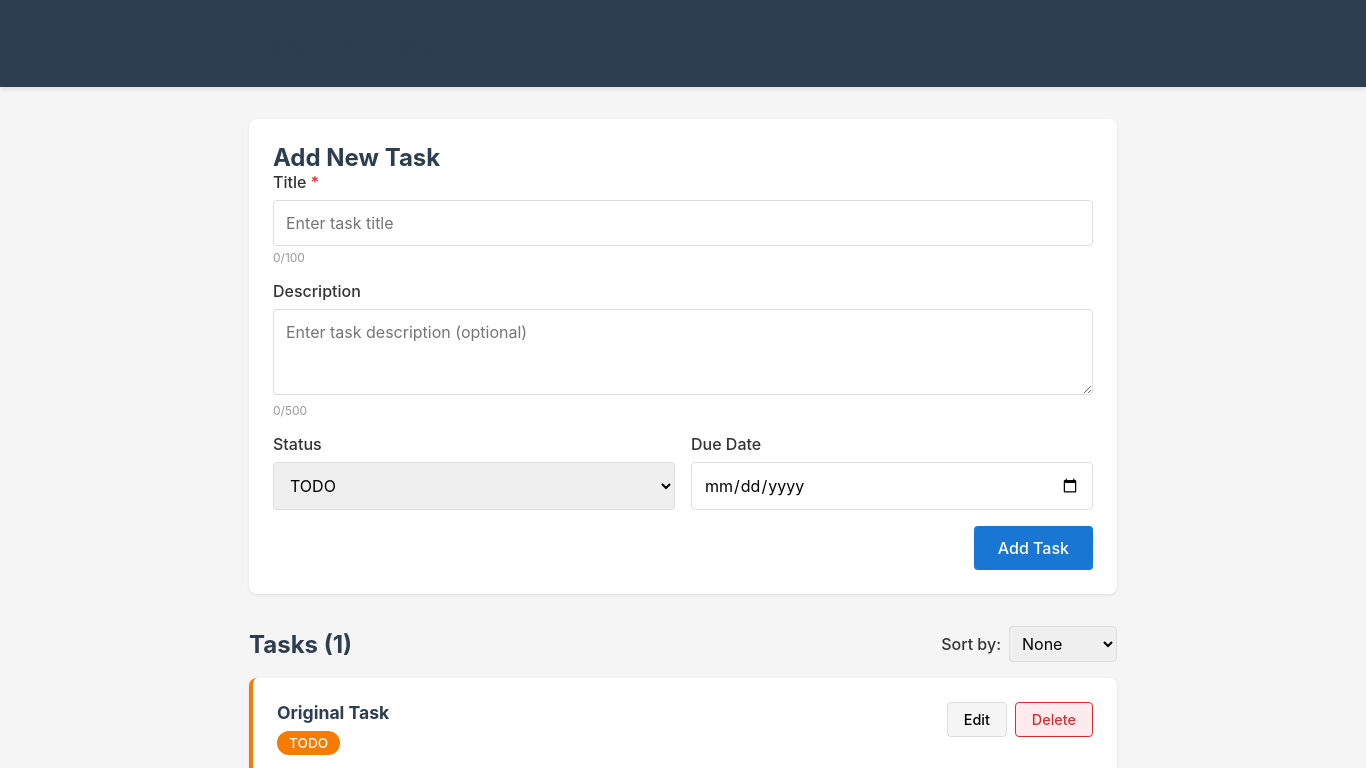
Test case: App Component › Edit Task › should exit edit mode after successful update
This screenshot has width=1366, height=768.
Step 1. Click the button "Edit" → (977, 720), box [947, 702, 1007, 737]
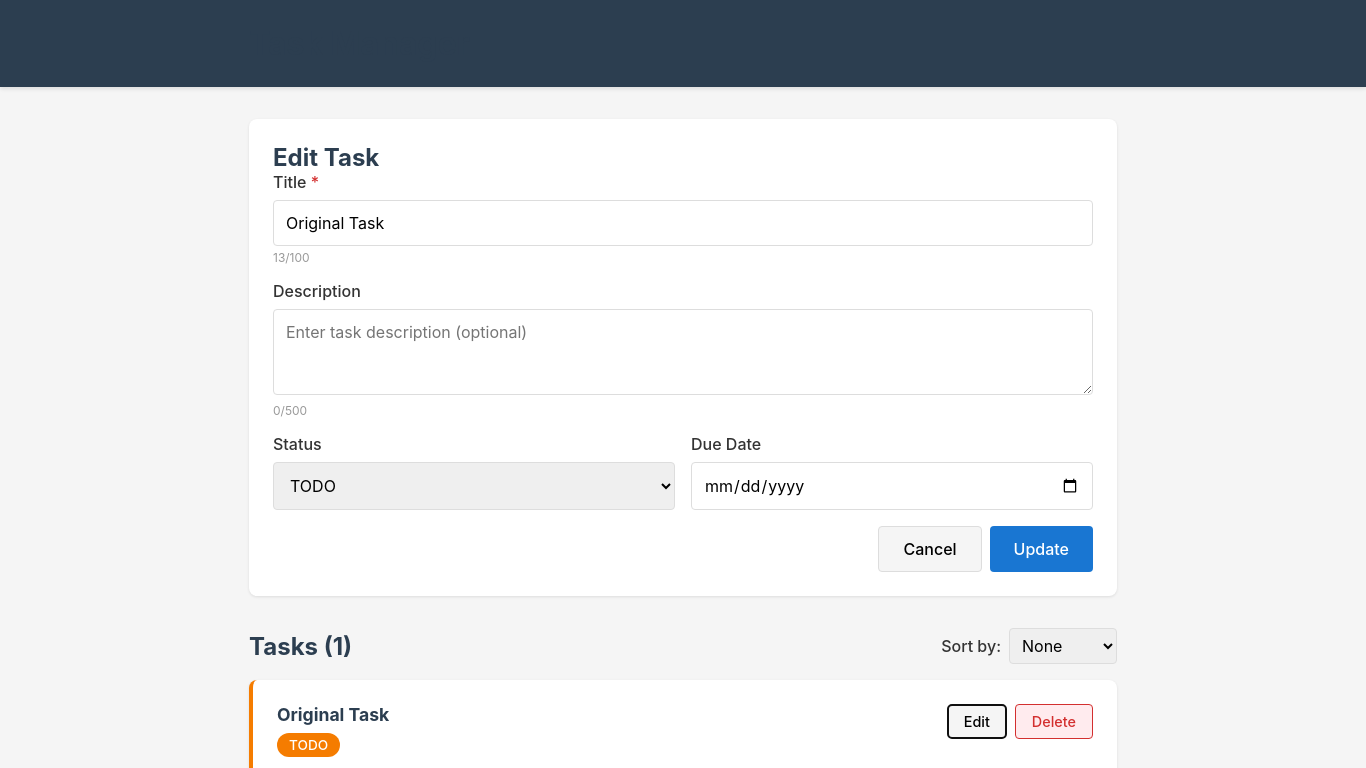
Step 2. Click the button "Update" → (1041, 549), box [990, 526, 1093, 572]
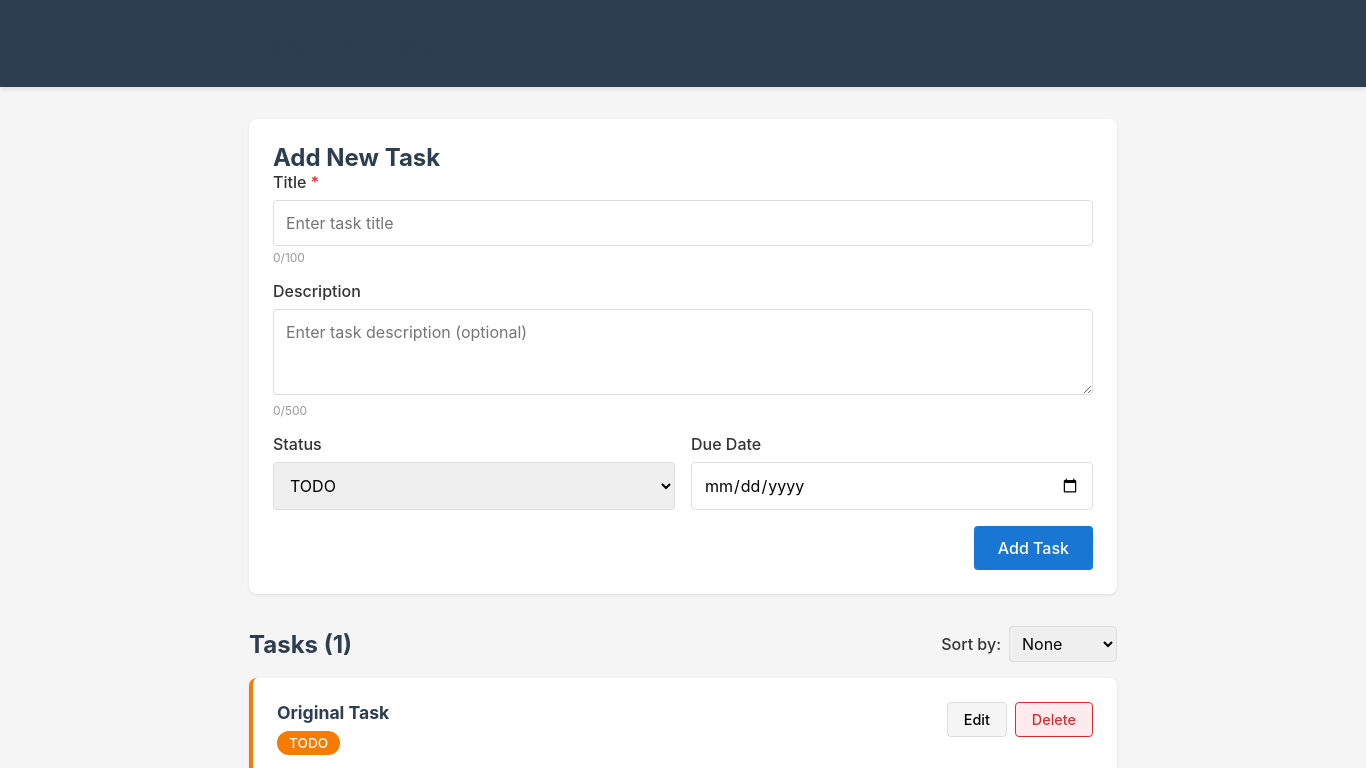
expect the heading "Add New Task" is shown: met, box [273, 143, 440, 172]
expect the heading "Edit Task" is gone: met
